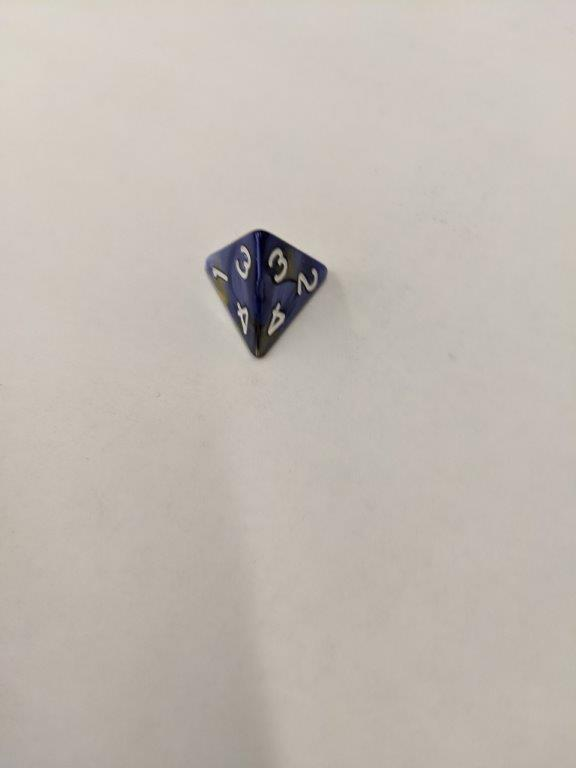d4-3: (201, 225, 333, 359)
